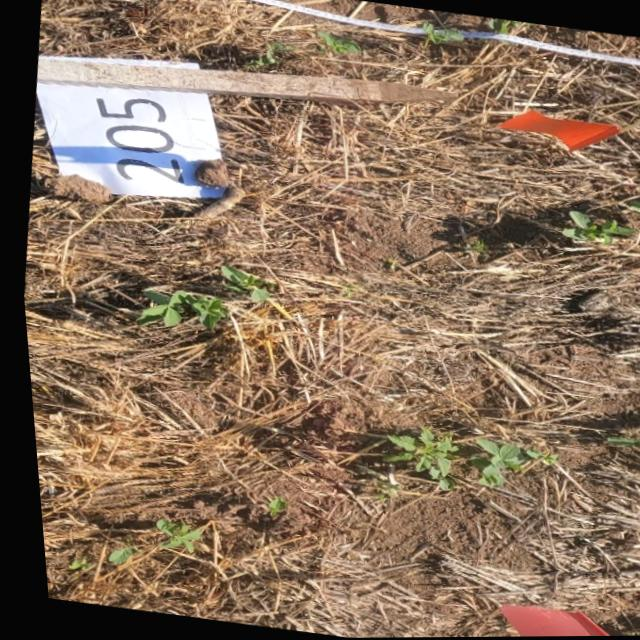caruru_weed: (379, 427, 450, 490)
soy_plant: (133, 288, 223, 328), (469, 439, 521, 487), (559, 211, 631, 244), (217, 265, 267, 301), (147, 518, 193, 552), (317, 32, 361, 55), (422, 22, 460, 44), (99, 544, 130, 564), (59, 558, 83, 570), (623, 200, 640, 216)
